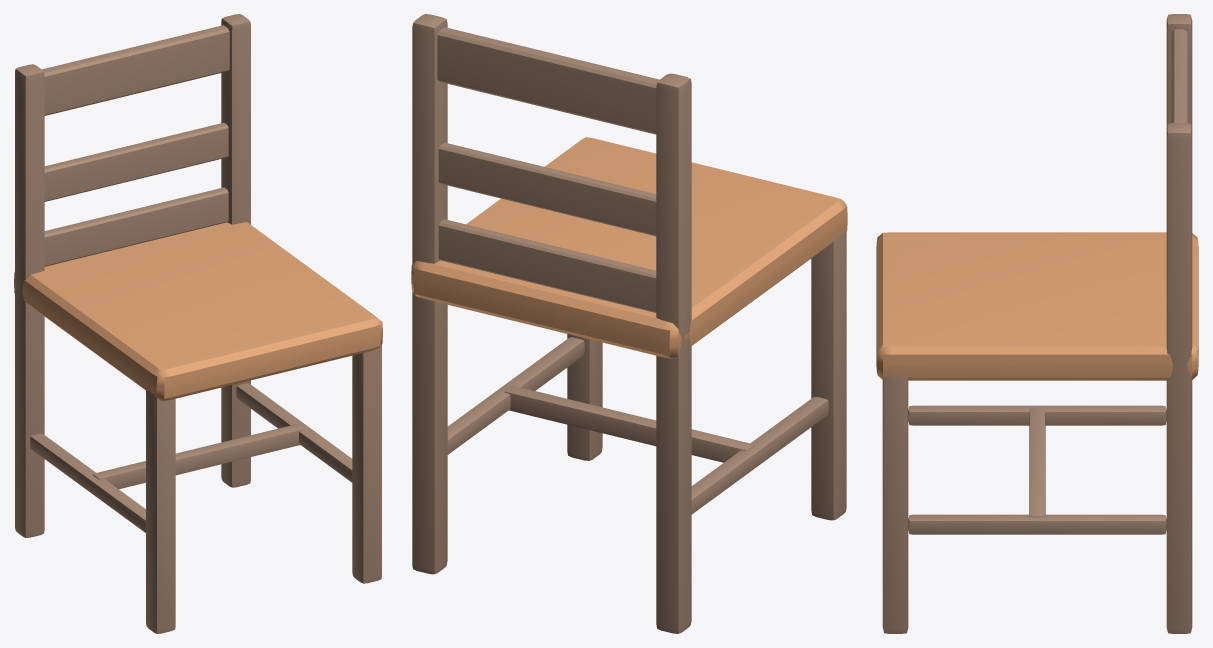
Rendered from chair-dining.glb.
The picture shows the model from 3 angles, left to right: view 1: azimuth 30°, elevation 25°; view 2: azimuth 150°, elevation 25°; view 3: azimuth 270°, elevation 25°; orthographic projection. The views are drawn at different scales.
Visible parts, largest first — view 1: Cube.007, Cube, Cube.008, Cube.003, Cube.001, Cube.004, Cube.010, Cube.009, Cube.006, Cube.002, Cube.005; view 2: Cube.007, Cube, Cube.003, Cube.008, Cube.001, Cube.009, Cube.010, Cube.006, Cube.002, Cube.005, Cube.004; view 3: Cube.007, Cube.003, Cube.004, Cube.005, Cube.002, Cube.006, Cube.008, Cube.
Part boxes in pixels (x1=…): Cube.007: x1=14, y1=222, x2=382, y2=401; Cube: x1=15, y1=64, x2=44, y2=537; Cube.008: x1=42, y1=25, x2=229, y2=115; Cube.003: x1=221, y1=14, x2=250, y2=487; Cube.001: x1=146, y1=390, x2=175, y2=633; Cube.004: x1=352, y1=344, x2=381, y2=583; Cube.010: x1=44, y1=187, x2=228, y2=266; Cube.009: x1=44, y1=122, x2=228, y2=201; Cube.006: x1=92, y1=424, x2=304, y2=489; Cube.002: x1=30, y1=433, x2=145, y2=532; Cube.005: x1=236, y1=383, x2=352, y2=482; Cube.007: x1=411, y1=137, x2=847, y2=358; Cube: x1=656, y1=73, x2=691, y2=633; Cube.003: x1=412, y1=14, x2=447, y2=574; Cube.008: x1=437, y1=27, x2=659, y2=134; Cube.001: x1=811, y1=230, x2=846, y2=520; Cube.009: x1=438, y1=142, x2=656, y2=236; Cube.010: x1=438, y1=219, x2=656, y2=312; Cube.006: x1=504, y1=386, x2=754, y2=462; Cube.002: x1=691, y1=397, x2=828, y2=514; Cube.005: x1=447, y1=337, x2=584, y2=454; Cube.004: x1=567, y1=334, x2=602, y2=460; Cube.007: x1=876, y1=232, x2=1198, y2=380; Cube.003: x1=1166, y1=123, x2=1192, y2=633; Cube.004: x1=882, y1=375, x2=908, y2=633; Cube.005: x1=908, y1=514, x2=1166, y2=534; Cube.002: x1=908, y1=405, x2=1166, y2=425; Cube.006: x1=1029, y1=407, x2=1045, y2=517; Cube.008: x1=1171, y1=29, x2=1187, y2=123; Cube: x1=1166, y1=14, x2=1192, y2=128.
Bounding box in the file's own units: 0.44 × 0.86 × 0.5.
